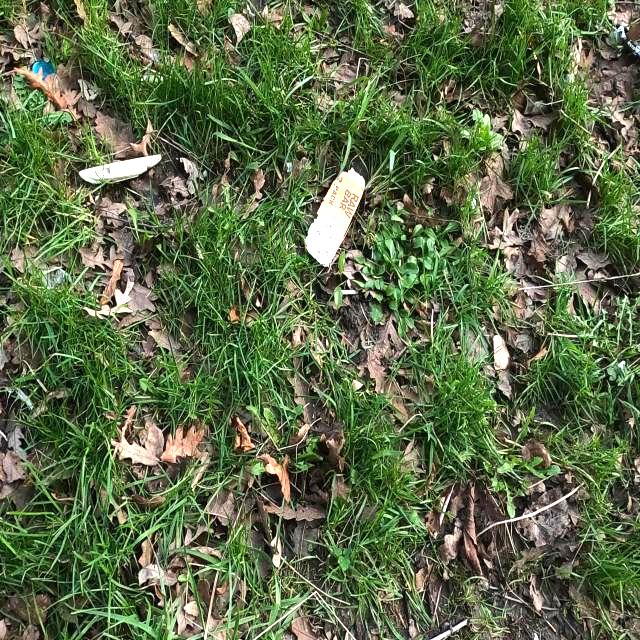Plastic: (296, 163, 374, 275)
